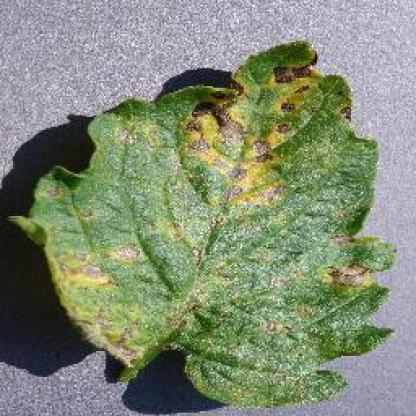bad leaf: (44, 195, 188, 370), (192, 29, 304, 232)
